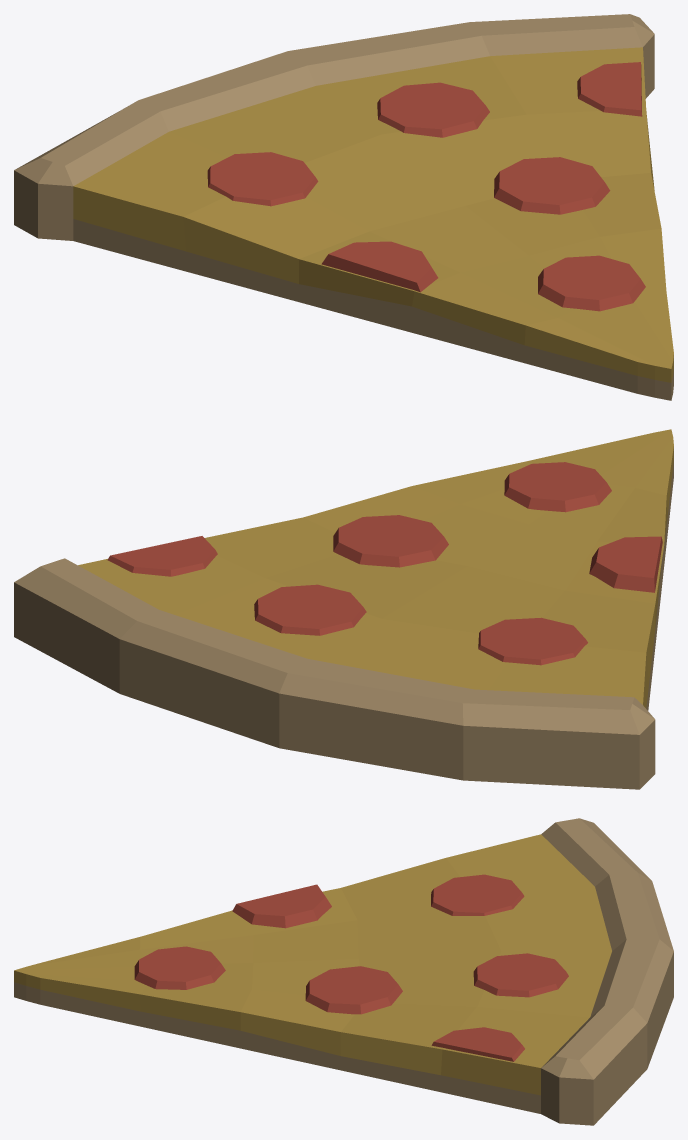
The model's file is quaternius-ultimate-food-pizza-slice.glb.
The picture shows the model from 3 angles, top to bottom: view 1: azimuth 30°, elevation 25°; view 2: azimuth 150°, elevation 25°; view 3: azimuth 270°, elevation 25°; orthographic projection. The views are drawn at different scales.
Visible parts, largest first — view 1: Pizza_Slice; view 2: Pizza_Slice; view 3: Pizza_Slice.
Part boxes in pixels (x1,y1,x2,y2): Pizza_Slice: [14, 14, 673, 400]; Pizza_Slice: [14, 429, 673, 789]; Pizza_Slice: [14, 818, 673, 1125].
Bounding box in the file's own units: 1.07 × 0.1128 × 1.16.
